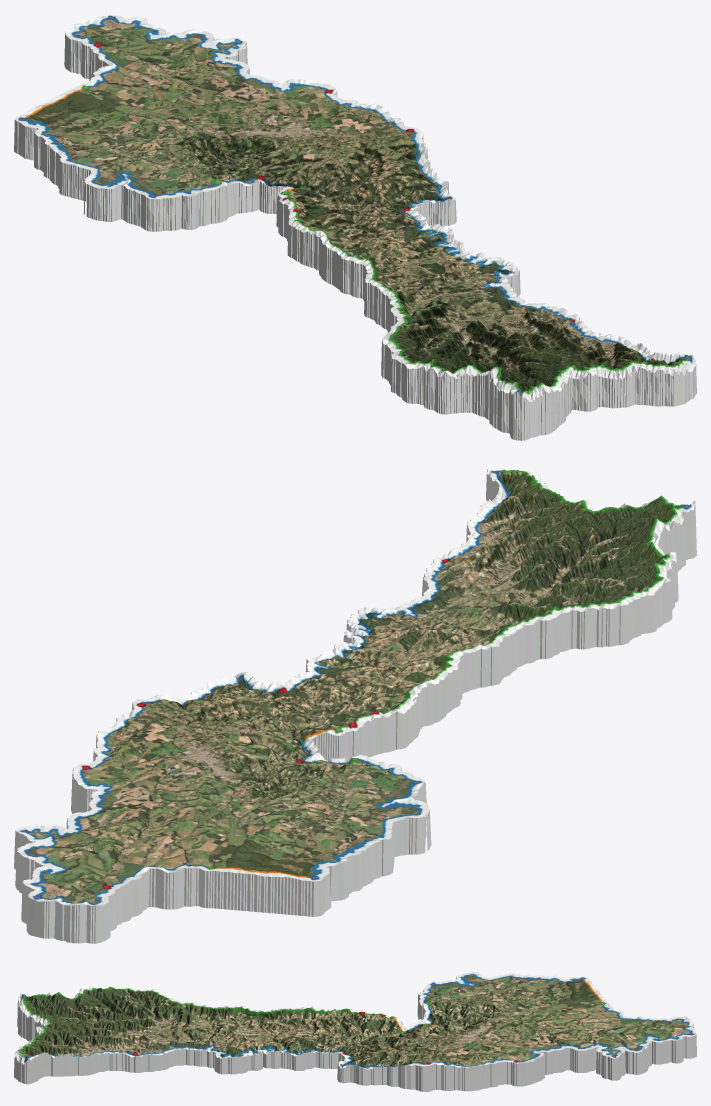
The picture shows the model from 3 angles, top to bottom: view 1: azimuth 30°, elevation 25°; view 2: azimuth 150°, elevation 25°; view 3: azimuth 270°, elevation 25°; orthographic projection. The views are drawn at different scales.
Bounding box in the file's own units: 1 × 0.1636 × 2.94.
Materials: 1 (1 with a texture image).
